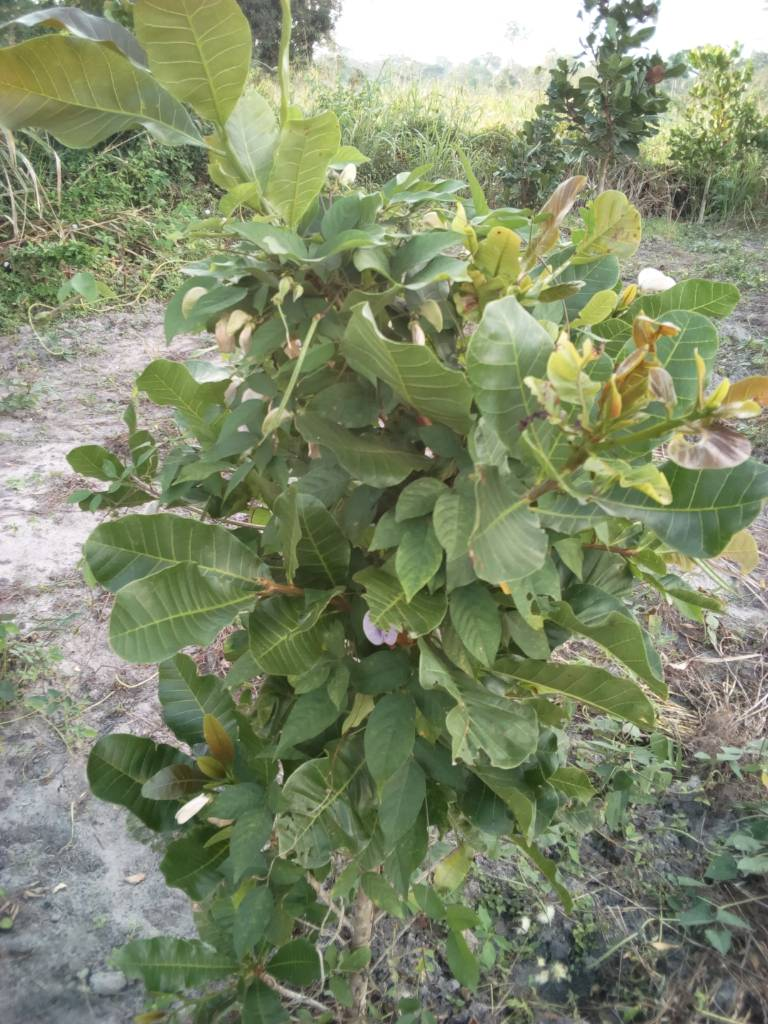Anoplonemis curvipes: (275, 794, 341, 869)
